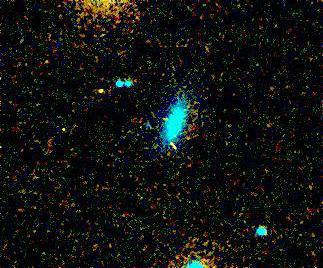star: (86, 77, 116, 107)
